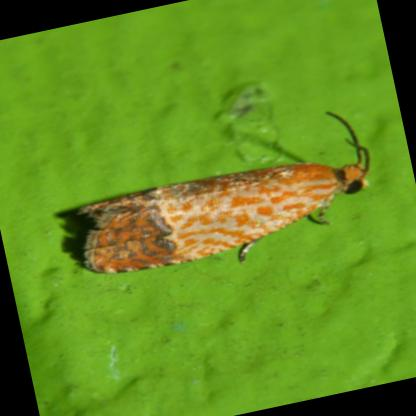Leaf Webber: (74, 107, 370, 276)
